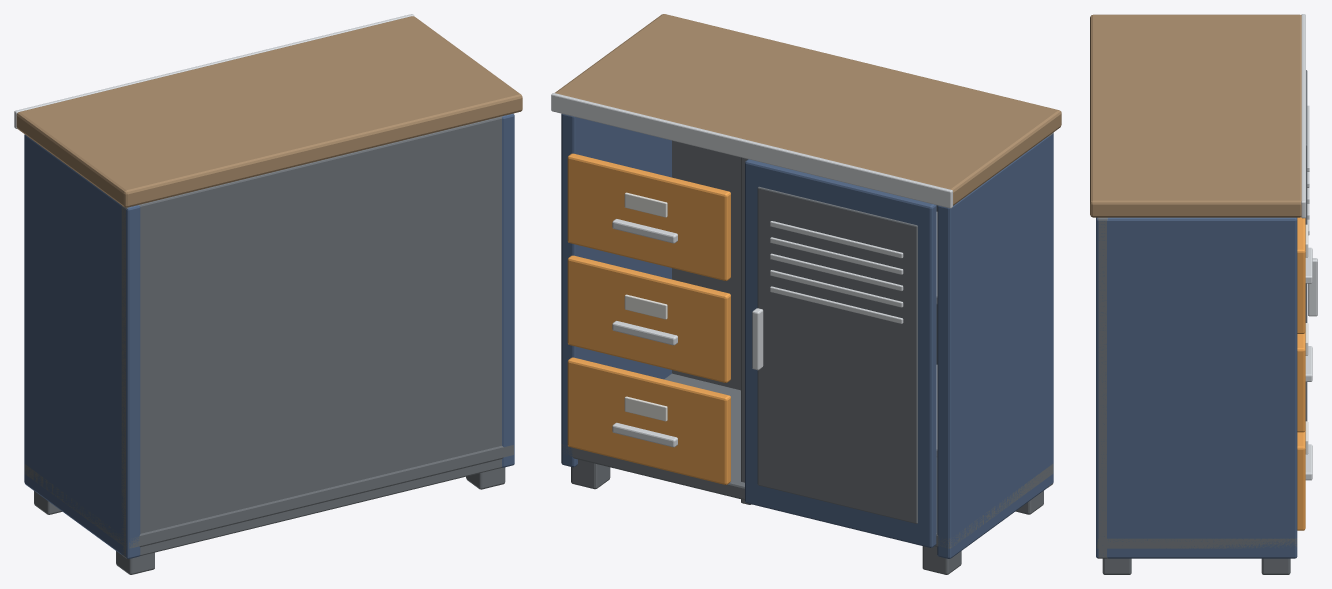
The model's file is SM_CabinetUtility.fbx.
3 renders of one model, left to right at view 1: azimuth 30°, elevation 25°; view 2: azimuth 150°, elevation 25°; view 3: azimuth 270°, elevation 25°, orthographic. The views are drawn at different scales.
Parts seen in each view (by area): view 1: CabinetUtility_Body; view 2: CabinetUtility_Body, Door_L_Hinge; view 3: CabinetUtility_Body, Door_L_Hinge.
Part boxes in pixels (bbox=[...]): CabinetUtility_Body: bbox=[14, 14, 522, 574]; CabinetUtility_Body: bbox=[551, 14, 1061, 574]; Door_L_Hinge: bbox=[745, 159, 936, 547]; CabinetUtility_Body: bbox=[1090, 14, 1312, 574]; Door_L_Hinge: bbox=[1305, 70, 1317, 421].
Bounding box in the file's own units: 115 × 58.8 × 108.
